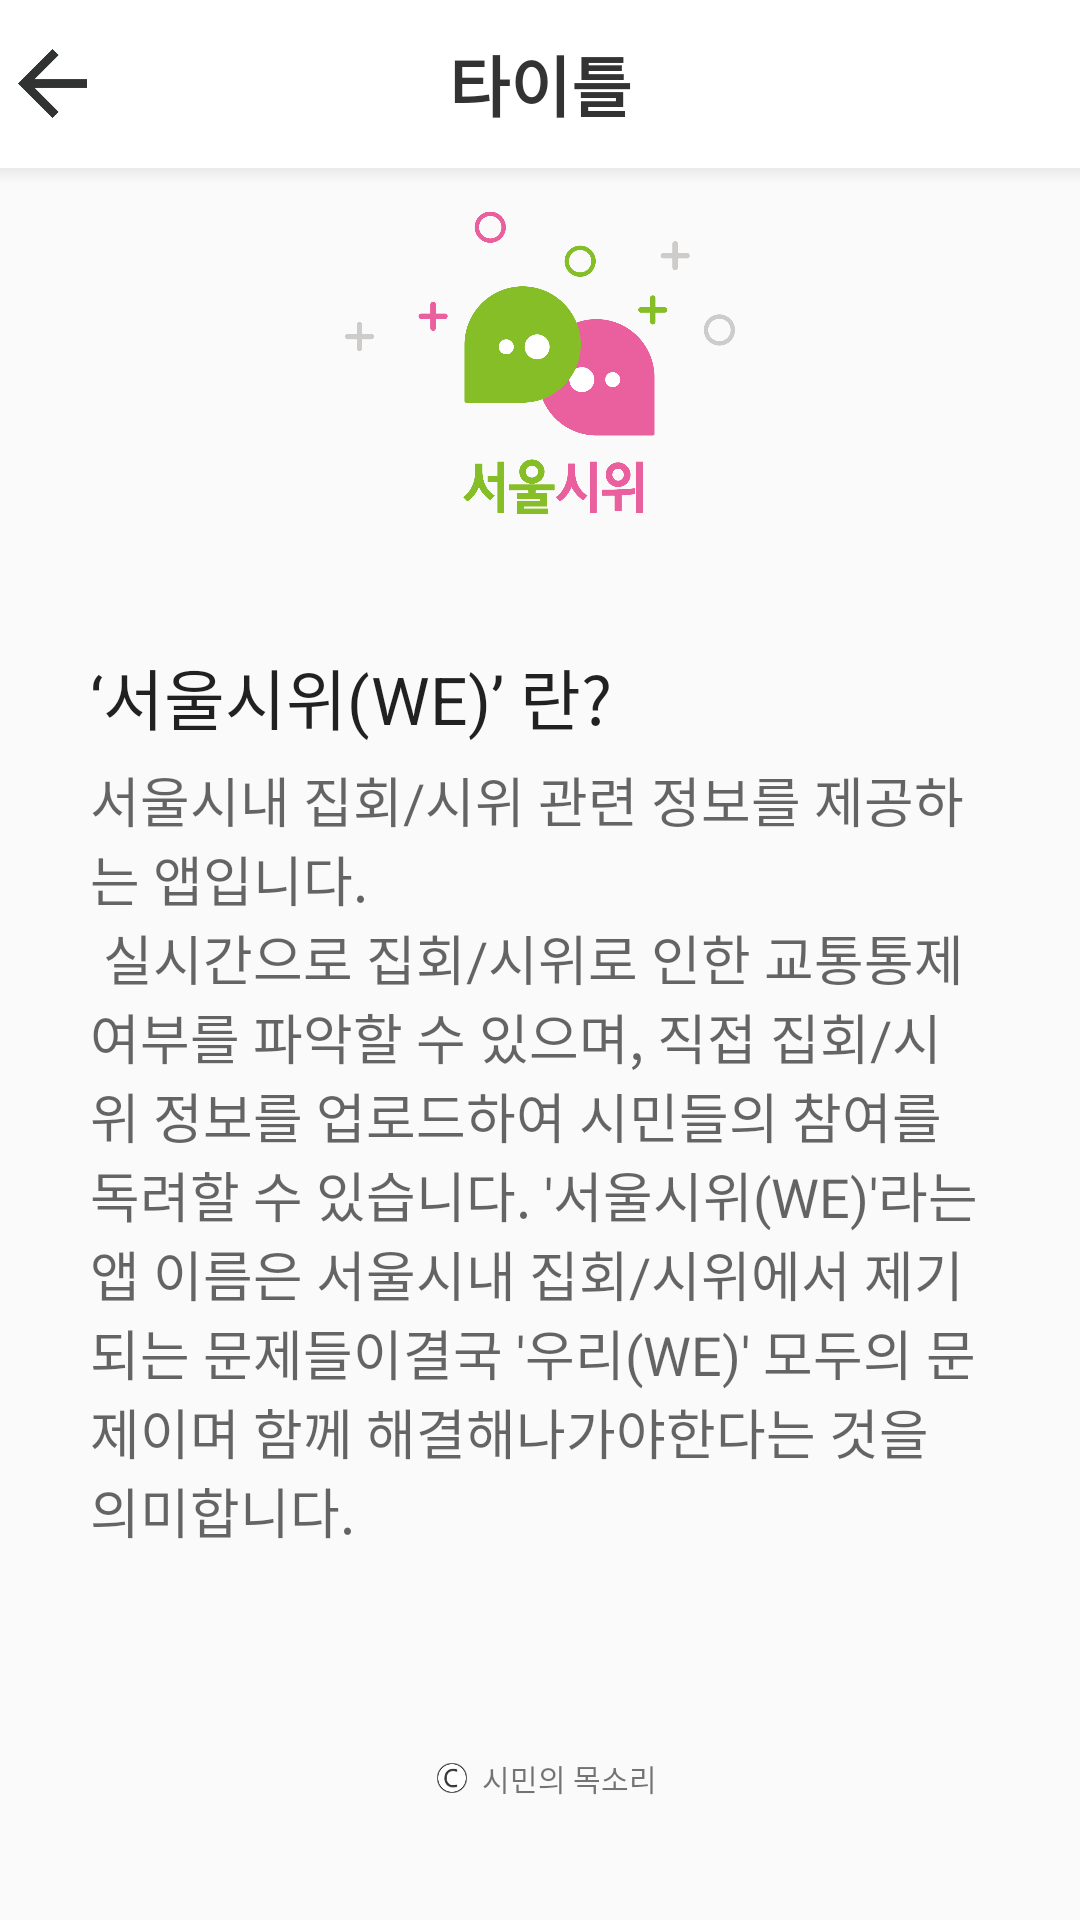

Icon click points for this 1080 x 1920 phone screenshot, format (x,y):
back: (52,83)
